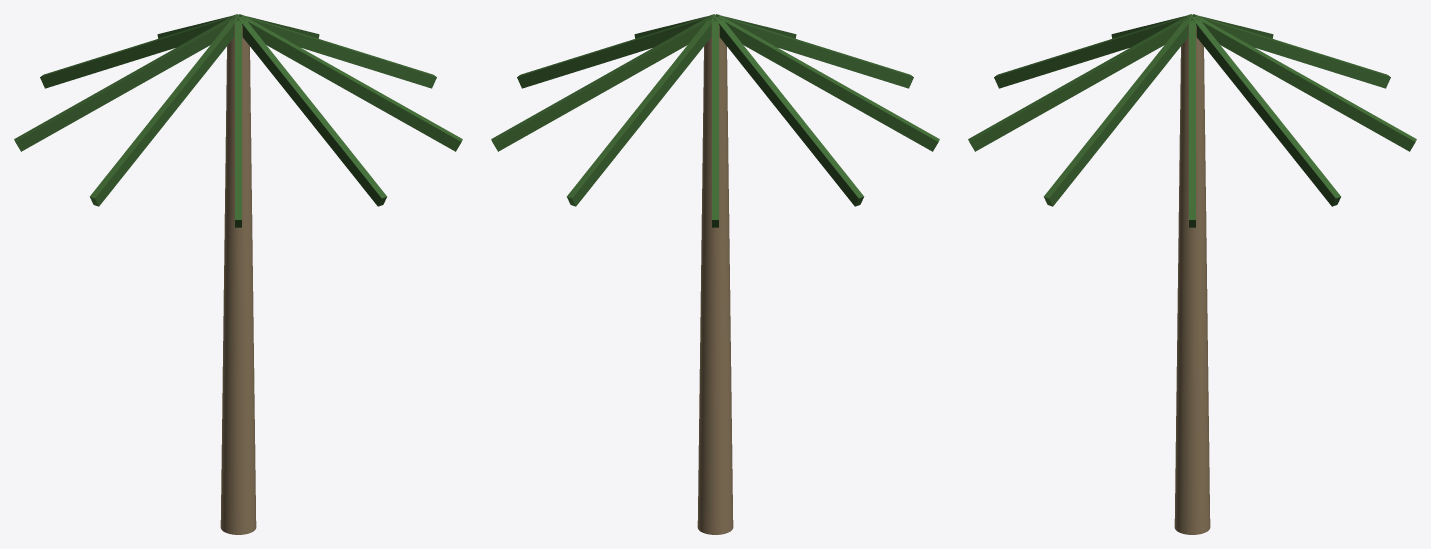
The model's file is e15-palm.glb.
3 views of the same model, side by side, from view 1: azimuth 30°, elevation 25°; view 2: azimuth 150°, elevation 25°; view 3: azimuth 270°, elevation 25° (orthographic).
Parts seen in each view (by area): view 1: part0, part9, part5, part6, part8, part1, part4, part7; view 2: part0, part2, part6, part3, part5, part1, part7, part4; view 3: part0, part3, part8, part2, part9, part4, part7, part1.
Boxes of the visible parts, x1,y1,x2,y2 form: part0: (220,25,256,534); part9: (241,15,462,151); part5: (14,15,235,151); part6: (89,16,238,206); part8: (238,16,387,206); part1: (239,14,436,88); part4: (40,14,237,88); part7: (235,17,241,227); part0: (697,25,733,534); part2: (491,15,712,151); part6: (718,15,939,151); part3: (566,16,715,206); part5: (715,16,864,206); part1: (517,14,714,88); part7: (716,14,913,88); part4: (712,17,718,227); part0: (1174,25,1210,534); part3: (1195,15,1416,151); part8: (968,15,1189,151); part2: (1192,16,1341,206); part9: (1043,16,1192,206); part4: (1193,14,1390,88); part7: (994,14,1191,88); part1: (1189,17,1195,227).
Bounding box in the file's own units: 8701 × 11110 × 8835.
